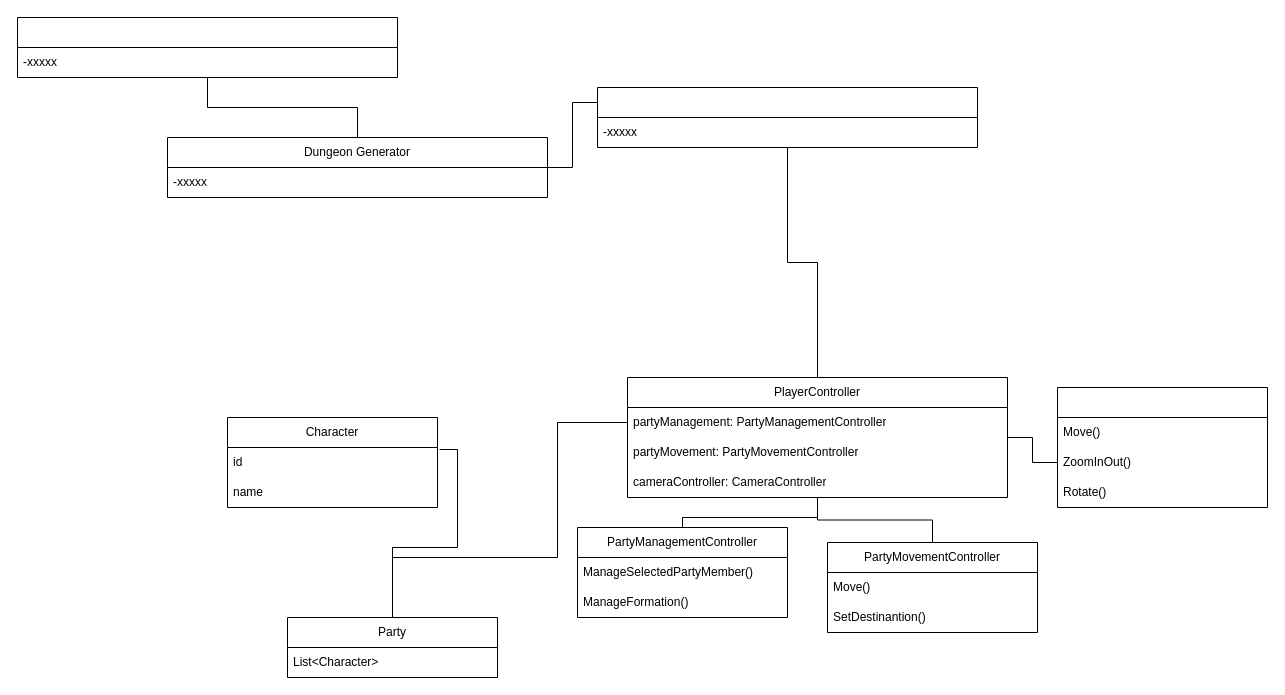
The diagram is 1285 pixels wide and 695 high, and some of its shapes have lost their labels. Each missing label, with the box of its shape:
CameraController: (1056, 386, 1268, 508)
Dungeon: (16, 16, 398, 78)
GameManager: (596, 86, 978, 148)
